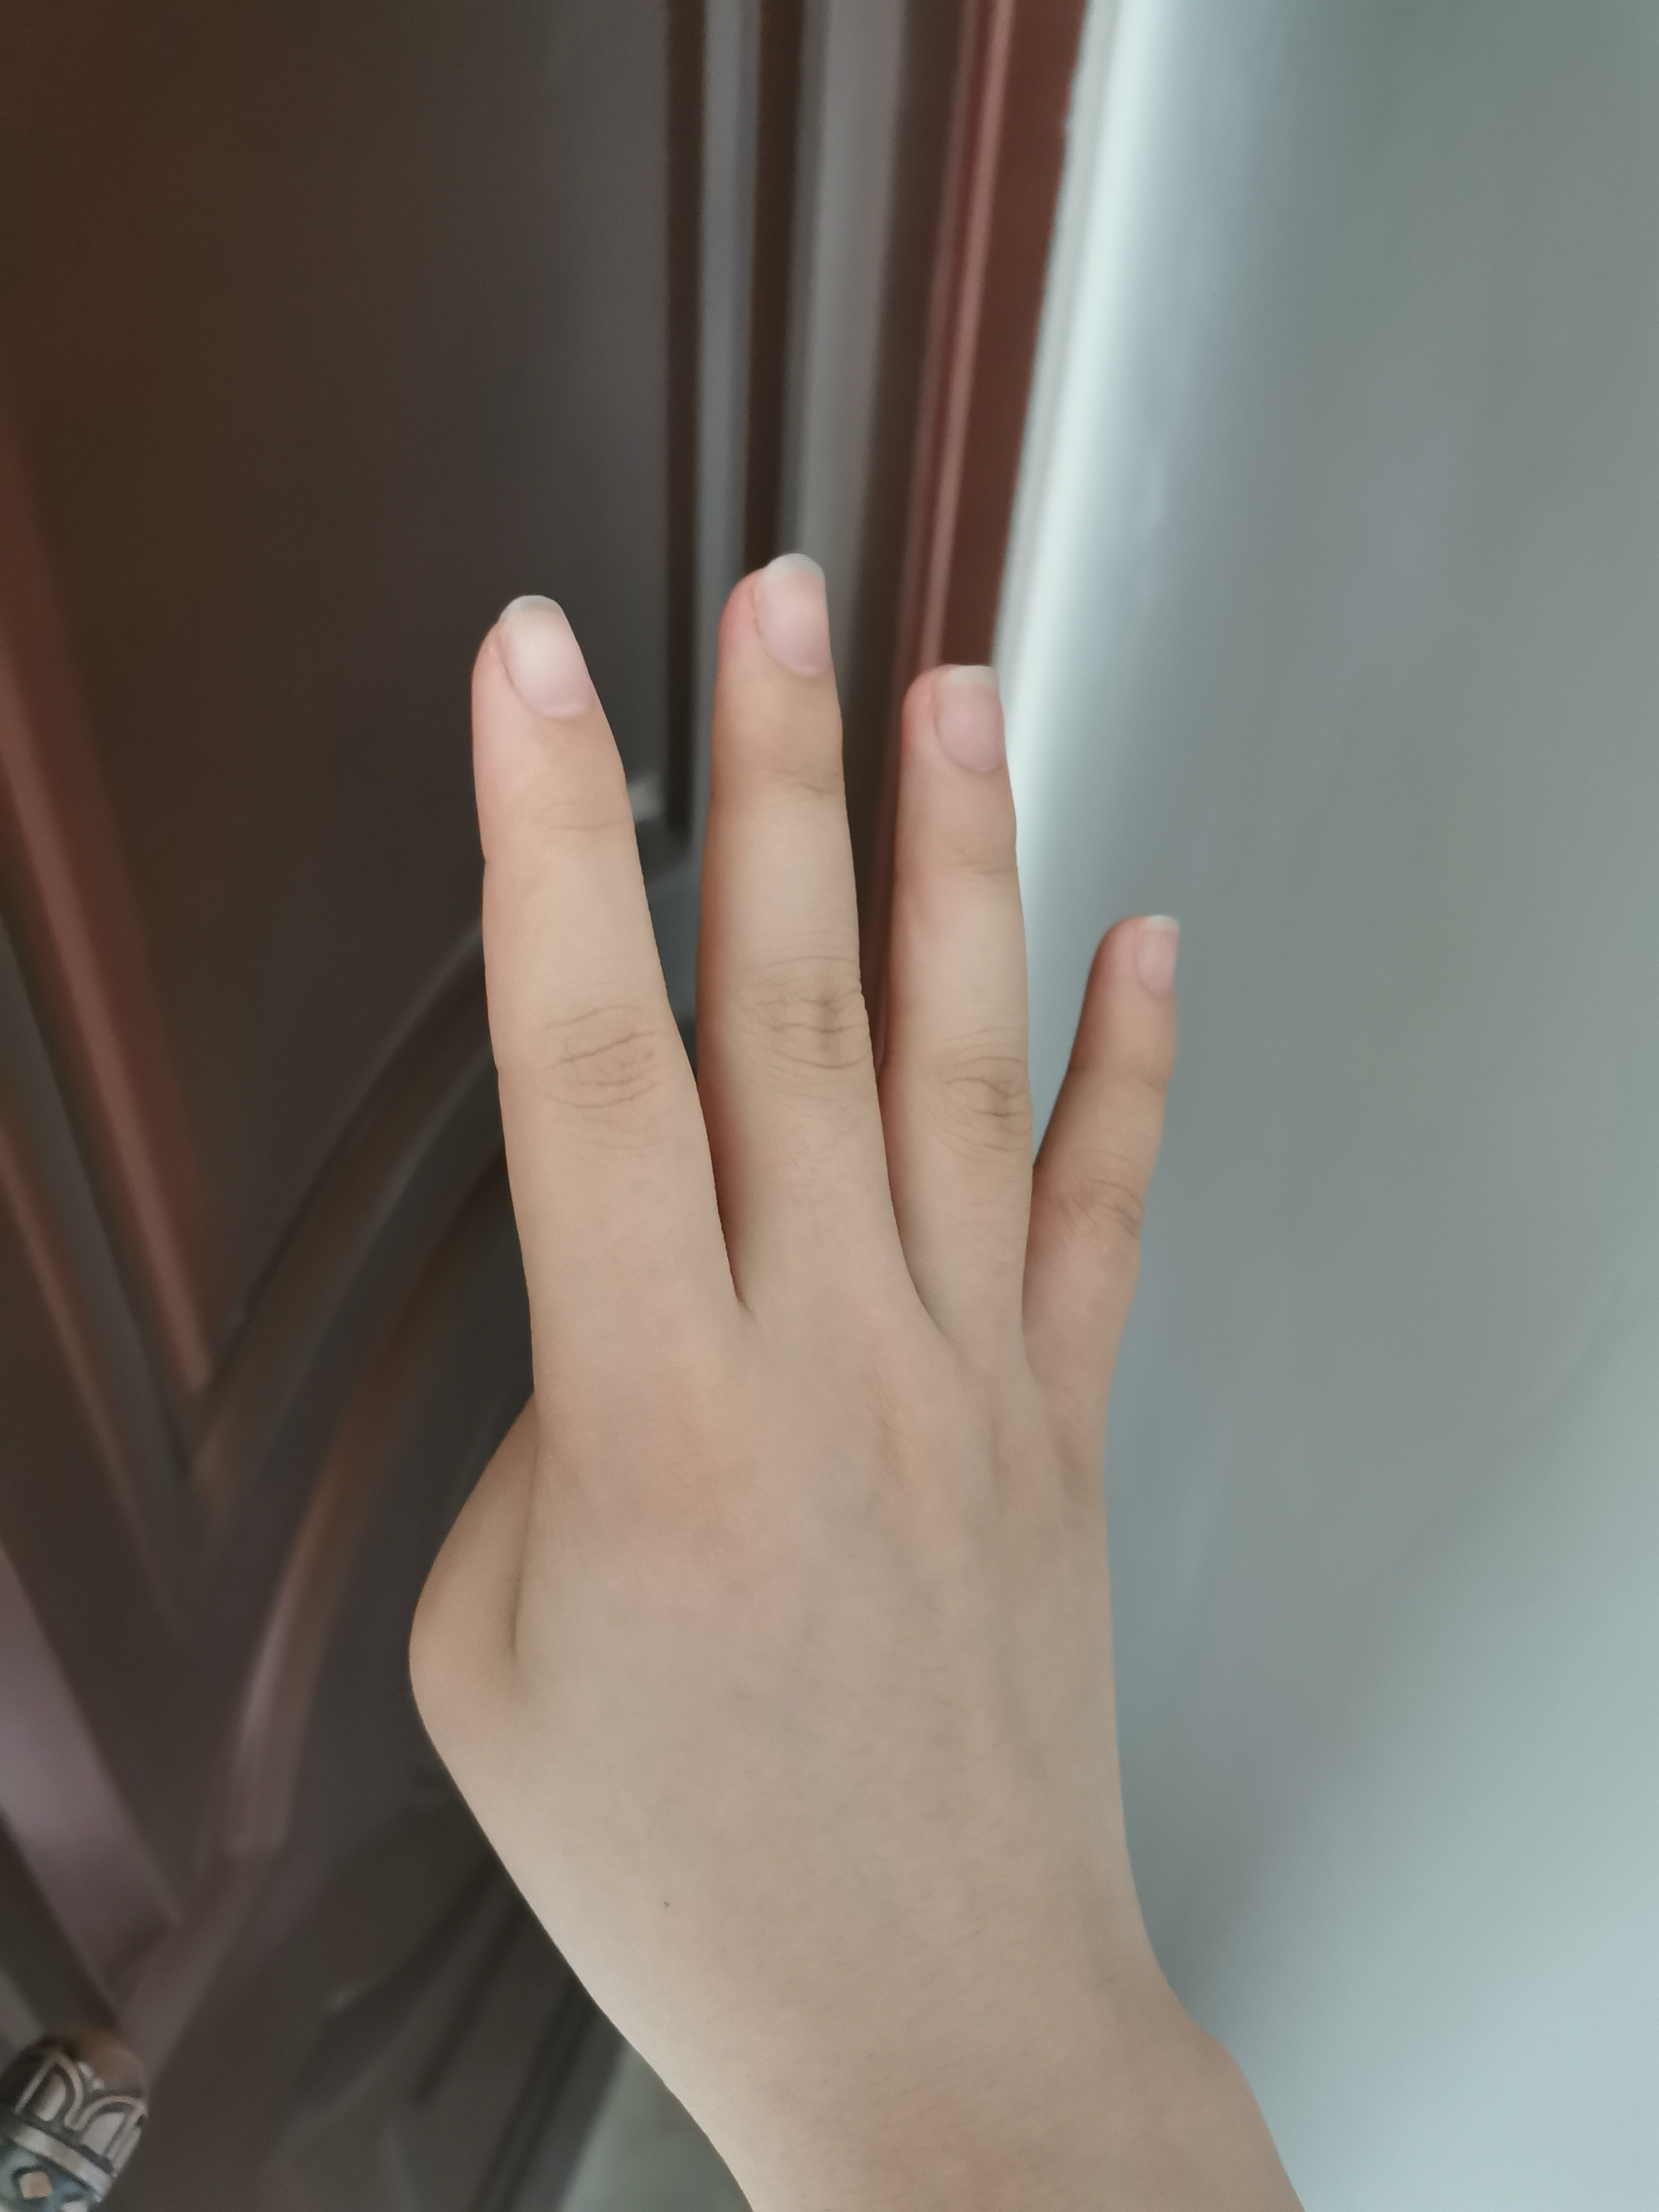right: (368, 543, 1204, 2033)
